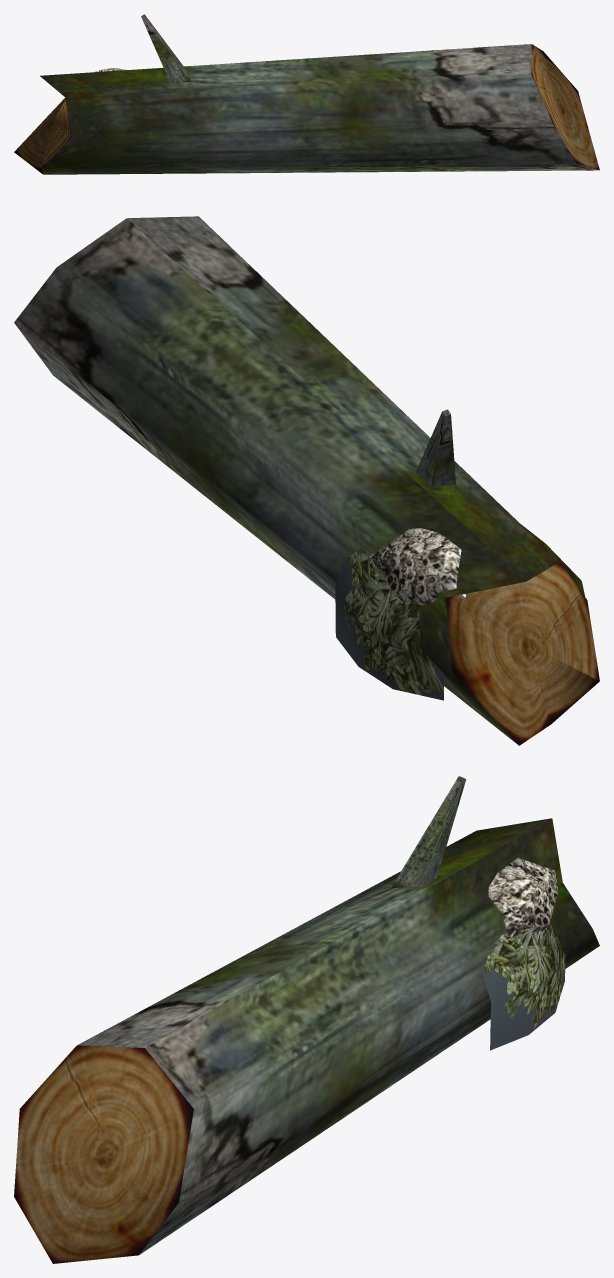
The model's file is pir_m_prp_dvj_logSeaweed_b.fbx.
The picture shows the model from 3 angles, top to bottom: view 1: azimuth 30°, elevation 25°; view 2: azimuth 150°, elevation 25°; view 3: azimuth 270°, elevation 25°; orthographic projection. The views are drawn at different scales.
Parts seen in each view (by area): view 1: log; view 2: log, seaweed9, barnacle; view 3: log, seaweed9, barnacle.
Part boxes in pixels (<box>): log: <box>14,14,599,174</box>; log: <box>14,216,599,745</box>; seaweed9: <box>335,548,443,700</box>; barnacle: <box>371,528,465,604</box>; log: <box>14,776,599,1263</box>; seaweed9: <box>483,923,565,1050</box>; barnacle: <box>488,858,558,938</box>.
Size of the model in its own units: 724 by 260 by 516.
2 materials, 2 textured.
